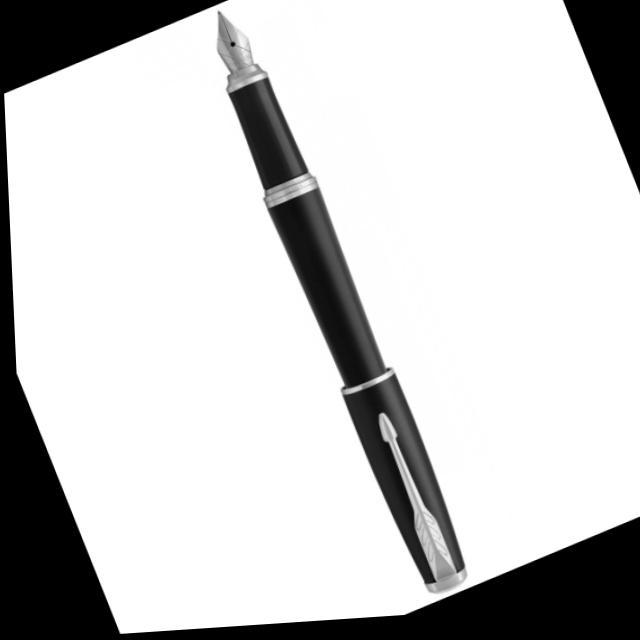pencil: (202, 7, 480, 598)
